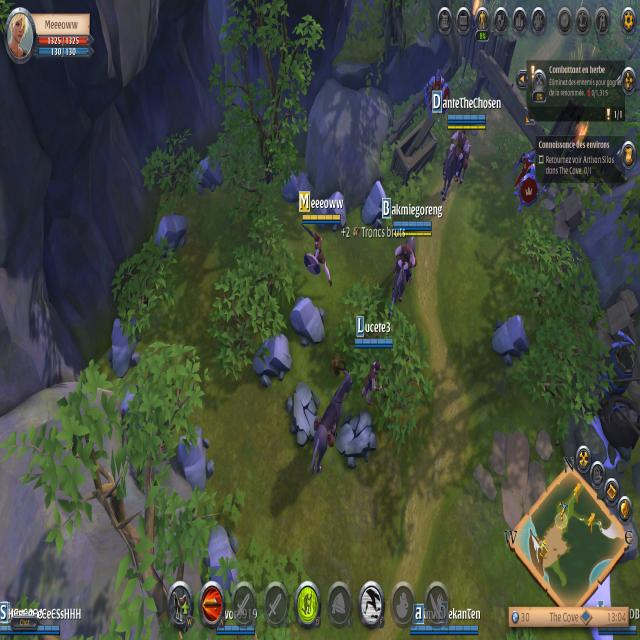broken stone: (338, 410, 377, 469), (286, 380, 319, 444)
stone: (176, 426, 215, 494), (205, 523, 240, 591), (249, 333, 292, 387), (490, 310, 530, 366), (289, 293, 327, 348), (106, 316, 140, 376), (152, 208, 188, 258), (190, 149, 224, 193), (360, 180, 388, 230), (280, 166, 314, 202)
